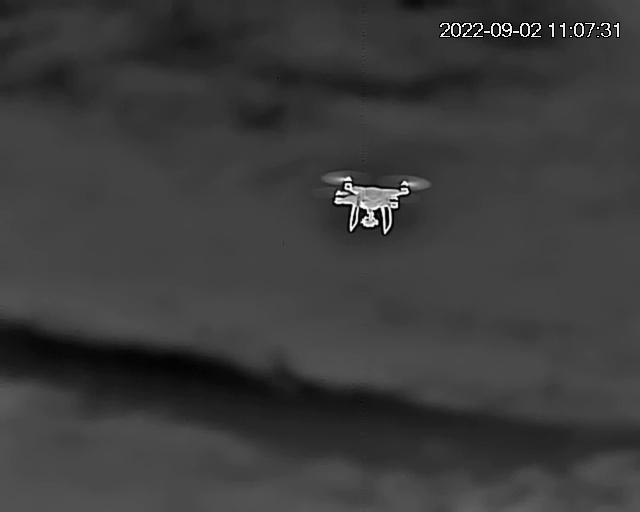DJI-Phantom: (321, 169, 430, 237)
